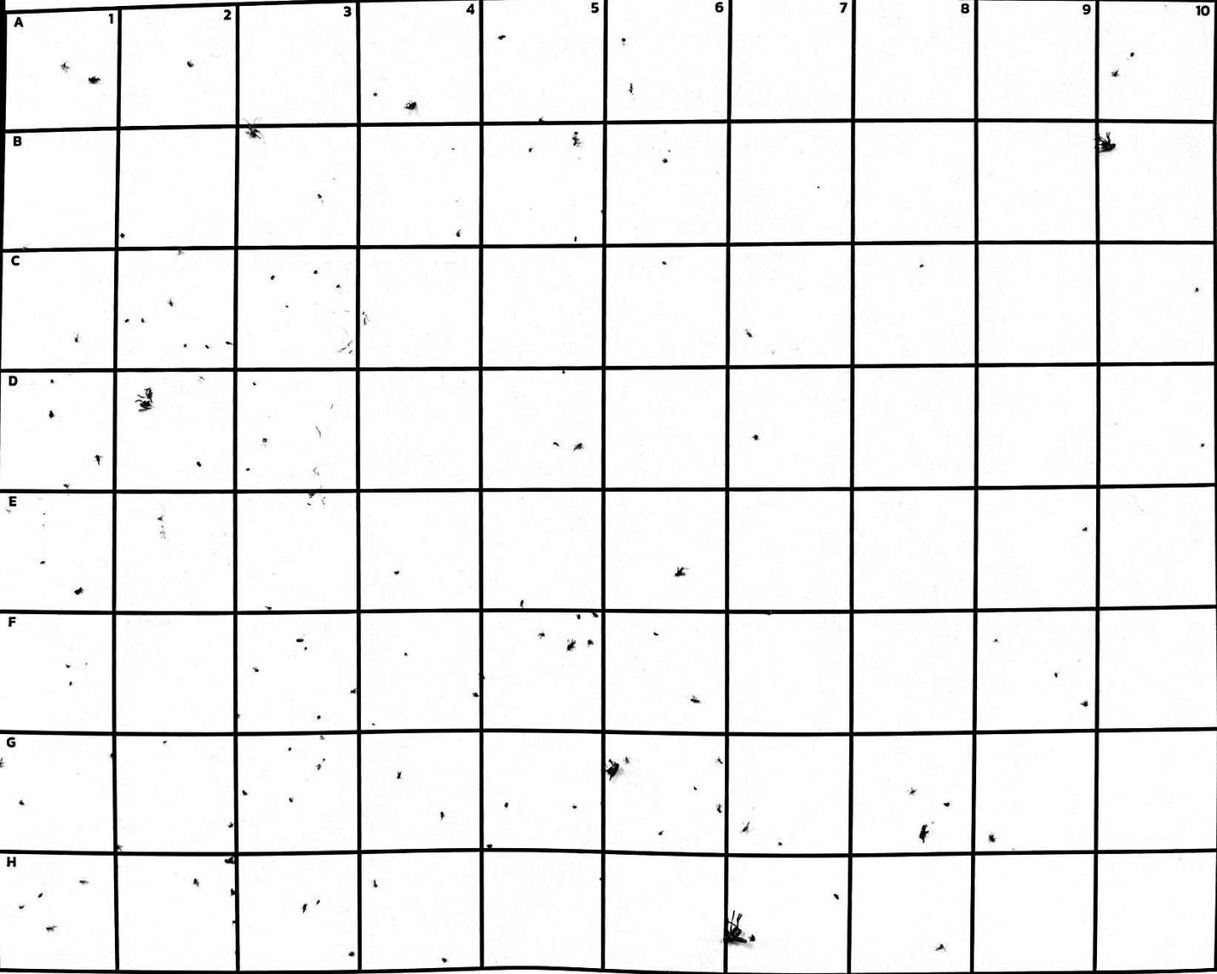fly: (720, 909, 748, 947)
test: (135, 385, 158, 417), (604, 758, 621, 783), (245, 119, 264, 141), (916, 821, 931, 845), (1098, 139, 1116, 157), (570, 128, 583, 147), (674, 564, 687, 579), (403, 99, 418, 112), (86, 75, 102, 86), (92, 453, 105, 466), (934, 939, 946, 952), (565, 639, 576, 653), (572, 441, 584, 453), (43, 923, 57, 933), (689, 694, 701, 705), (191, 877, 202, 889), (621, 755, 634, 765), (72, 585, 84, 595), (59, 61, 71, 71), (77, 878, 89, 888), (112, 844, 125, 853), (1080, 698, 1090, 709), (1110, 68, 1120, 79), (299, 903, 309, 914), (987, 833, 996, 845), (293, 636, 306, 644), (223, 857, 236, 865), (908, 786, 918, 796), (1080, 524, 1090, 534), (46, 409, 56, 419), (263, 603, 273, 613), (250, 665, 260, 675), (229, 888, 239, 898), (748, 933, 757, 944), (438, 809, 447, 820), (1192, 284, 1201, 295), (745, 329, 754, 340), (626, 83, 635, 94), (394, 769, 403, 780), (241, 788, 250, 799), (371, 878, 380, 889), (348, 950, 357, 961), (518, 597, 525, 611), (536, 631, 546, 640), (751, 432, 760, 442), (471, 690, 480, 700), (185, 59, 195, 68), (175, 248, 185, 257), (166, 299, 176, 308), (260, 436, 270, 445), (349, 687, 358, 697), (440, 955, 450, 964), (831, 891, 839, 902), (742, 822, 750, 833), (497, 33, 508, 41), (690, 783, 698, 794), (943, 800, 952, 809), (392, 569, 401, 578), (991, 636, 1000, 645), (537, 115, 546, 124), (71, 335, 80, 344), (155, 514, 164, 523), (502, 800, 511, 809), (591, 611, 601, 619), (585, 638, 595, 646), (1128, 49, 1136, 59), (268, 274, 278, 282), (224, 339, 234, 347), (36, 891, 44, 901), (63, 661, 71, 671), (717, 802, 723, 814), (1051, 670, 1060, 678), (662, 156, 671, 164), (371, 90, 379, 99), (455, 229, 463, 238), (315, 192, 323, 201), (123, 317, 131, 326), (62, 482, 71, 490), (308, 490, 316, 499), (402, 649, 411, 657), (571, 802, 579, 811), (656, 828, 664, 837), (287, 795, 296, 803), (315, 762, 323, 771), (651, 630, 660, 638), (777, 838, 784, 848), (572, 234, 579, 244), (119, 231, 126, 241), (335, 280, 342, 290), (67, 679, 74, 689), (552, 440, 560, 448), (918, 261, 926, 269), (203, 343, 211, 351), (315, 713, 323, 721), (227, 821, 235, 829), (39, 558, 47, 566), (526, 146, 535, 153), (717, 757, 724, 765), (1199, 441, 1206, 449), (48, 378, 56, 385), (18, 798, 25, 806), (19, 903, 27, 910), (286, 745, 294, 752), (576, 612, 582, 621), (560, 366, 566, 375), (484, 842, 493, 848), (661, 259, 668, 266), (250, 380, 257, 387), (195, 460, 202, 467), (181, 342, 188, 349), (313, 268, 319, 276), (244, 466, 252, 472), (162, 738, 168, 746), (315, 898, 321, 906), (301, 646, 309, 652), (620, 37, 627, 43), (284, 302, 290, 309), (139, 316, 145, 323), (319, 734, 325, 741), (320, 756, 327, 762), (369, 720, 376, 726), (230, 919, 238, 924), (816, 184, 821, 190)
